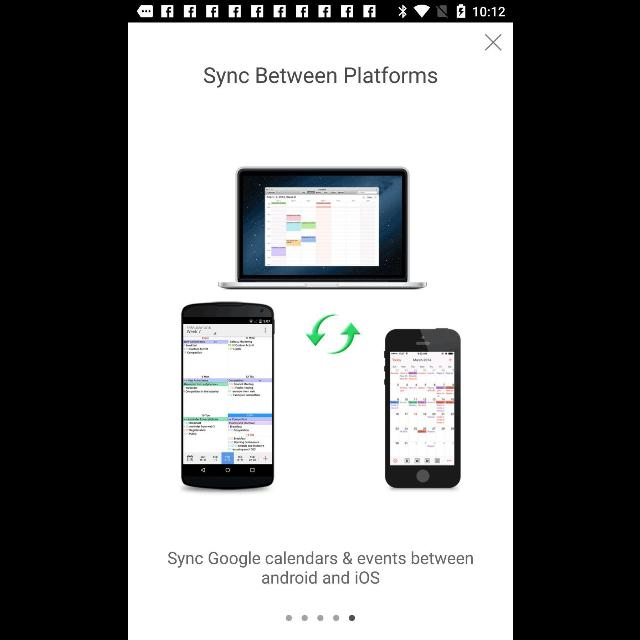icon: (484, 34, 501, 51)
image: (180, 166, 460, 490)
pageindicator: (285, 614, 355, 622)
text: (167, 552, 473, 584), (204, 66, 436, 88)
uppertaskbar: (128, 1, 512, 23)
